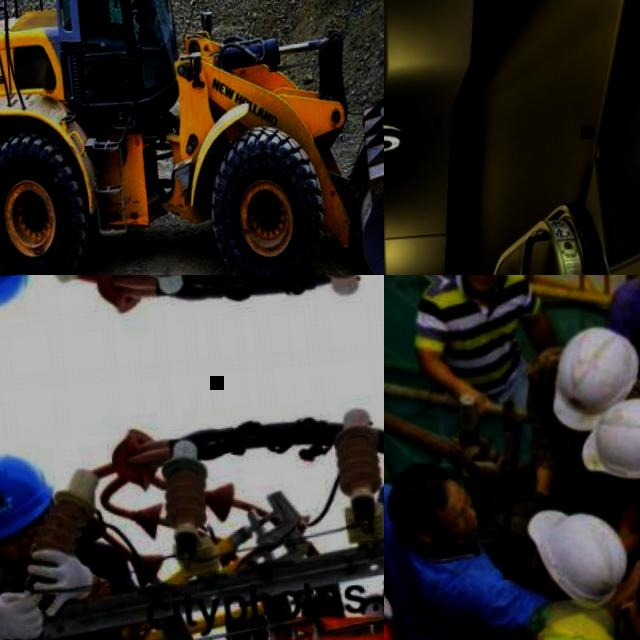Hardhat: (517, 490, 633, 621), (544, 320, 640, 441), (573, 396, 640, 485), (0, 446, 56, 539), (499, 608, 635, 640), (0, 275, 37, 312)
NO-Hardhat: (384, 461, 451, 526)
NO-Mask: (454, 513, 482, 544), (10, 545, 31, 572), (625, 610, 640, 639)
NO-Safety Vest: (384, 514, 487, 640), (0, 545, 123, 640), (433, 289, 525, 395), (536, 379, 590, 481), (621, 277, 640, 369)
Person: (384, 442, 546, 640), (0, 441, 157, 640), (519, 318, 640, 519), (408, 280, 560, 422), (518, 488, 633, 622), (572, 390, 640, 614), (602, 275, 640, 376)
machinery: (0, 0, 384, 275)
